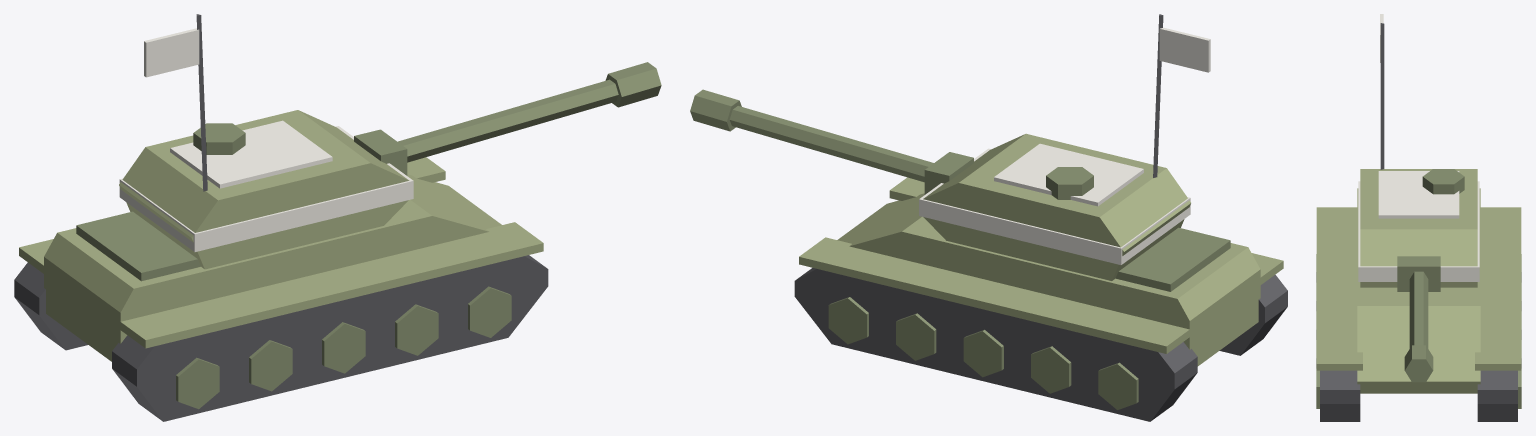
The model's file is formation_flank.glb.
3 views of the same model, side by side, from view 1: azimuth 30°, elevation 25°; view 2: azimuth 150°, elevation 25°; view 3: azimuth 270°, elevation 25° (orthographic). The views are drawn at different scales.
Visible parts, largest first — view 1: modern_formation_flank; view 2: modern_formation_flank; view 3: modern_formation_flank.
Boxes of the visible parts, left/top/right/bottom form: modern_formation_flank: left=14, top=14, right=661, bottom=421; modern_formation_flank: left=690, top=14, right=1287, bottom=421; modern_formation_flank: left=1316, top=14, right=1521, bottom=421.
Bounding box in the file's own units: 0.9995 × 0.5969 × 0.381.
